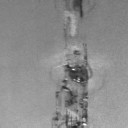slag inclusion: (56, 78, 89, 128), (64, 42, 93, 89), (64, 0, 96, 20), (64, 16, 80, 42), (53, 112, 61, 121), (73, 50, 82, 56), (53, 0, 57, 9)
